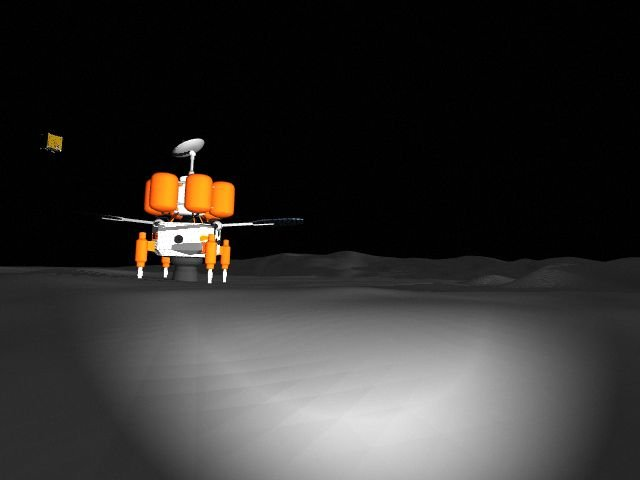cubesat: (32, 128, 66, 161)
